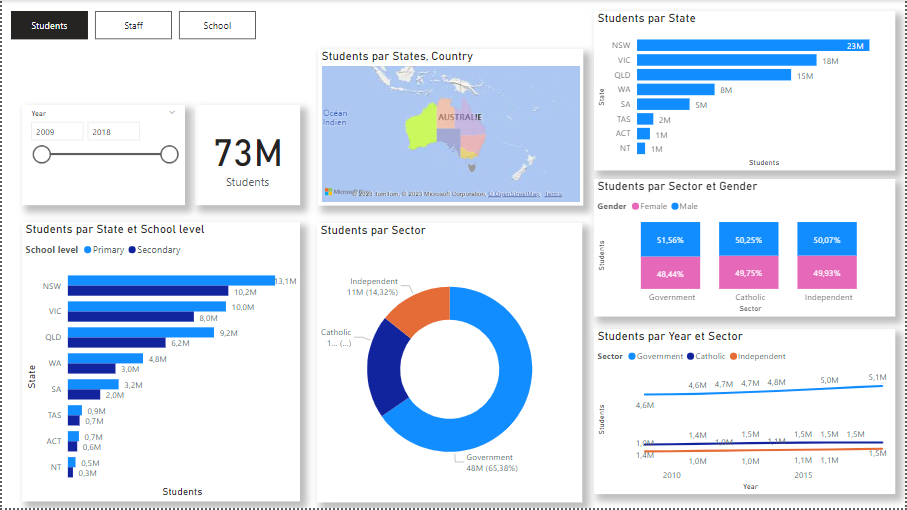

The page's visual inventory and layout, read from the dashboard file:
{"tool":"powerbi","page":{"name":"Students","canvas":[1280,720],"ordinal":0},"visuals":[{"type":"card","fields":{"Values":["Sum(Students.Students)"]},"box":[273.7,149.2,149.2,141.8],"z":0},{"type":"donutChart","title":"Students by Sector","fields":{"Y":["Sum(Students.Students)"],"Category":["DimSchoolSector.Sector"]},"box":[446.2,315.6,376,395.7],"z":1000},{"type":"filledMap","fields":{"Category":["DImStates.States, Column"]},"box":[447.5,69,376,221.9],"z":2000},{"type":"clusteredBarChart","fields":{"Y":["Sum(Students.Students)"],"Category":["DImStates.State"]},"box":[839.5,16,426.5,225.6],"z":3000},{"type":"lineChart","title":"Students by Year and Sector","fields":{"Y":["Sum(Students.Students)"],"Category":["DimDates.Year"],"Series":["DimSchoolSector.Sector"]},"box":[839.5,466,426.5,234.2],"z":4000},{"type":"clusteredBarChart","fields":{"Y":["Sum(Students.Students)"],"Category":["DImStates.State"],"Series":["Students.School level"]},"box":[28.4,314.3,394.5,395.7],"z":5000},{"type":"hundredPercentStackedColumnChart","title":"Students by Sector and Gender","fields":{"Category":["DimSchoolSector.Sector"],"Y":["Sum(Students.Students)"],"Series":["Students.Gender"]},"box":[839.5,253.9,426.5,194.8],"z":6000},{"type":"slicer","fields":{"Values":["DimDates.Year"]},"box":[28.4,149.2,230.5,141.8],"z":7000},{"type":"pageNavigator","box":[12.3,16,348.8,40.7],"z":8000}]}

Visuals, with their boxes in screenshot pixels (x1, y1, x2, y2), scaled from the page's 1280x720 canvas onto the 907x510 screenshot:
card - Sum(Students.Students): x1=194, y1=106, x2=300, y2=206
"Students by Sector" donutChart: x1=316, y1=224, x2=583, y2=504
filledMap - DImStates.States, Column: x1=317, y1=49, x2=584, y2=206
clusteredBarChart - Sum(Students.Students) x DImStates.State: x1=595, y1=11, x2=897, y2=171
"Students by Year and Sector" lineChart: x1=595, y1=330, x2=897, y2=496
clusteredBarChart - Sum(Students.Students) x DImStates.State: x1=20, y1=223, x2=300, y2=503
"Students by Sector and Gender" hundredPercentStackedColumnChart: x1=595, y1=180, x2=897, y2=318
slicer - DimDates.Year: x1=20, y1=106, x2=183, y2=206
pageNavigator: x1=9, y1=11, x2=256, y2=40
